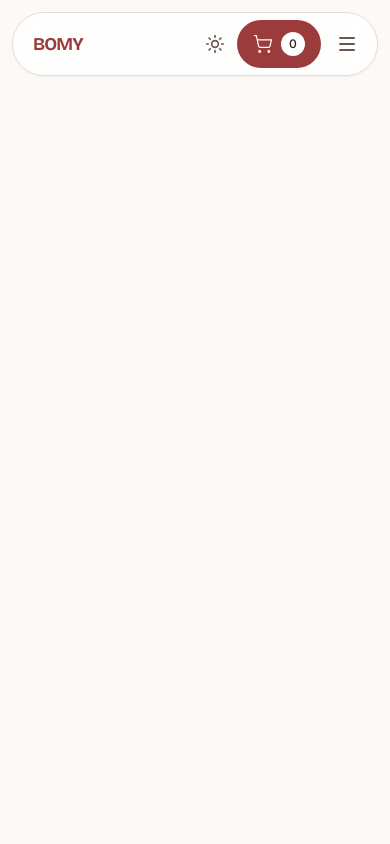
Test case: names, tags and destinations › buyer: the opened mobile panel has the account link
Click the button named "Open menu" at {"x": 347, "y": 44}, box top-left (325, 22), bottom-right (369, 66)
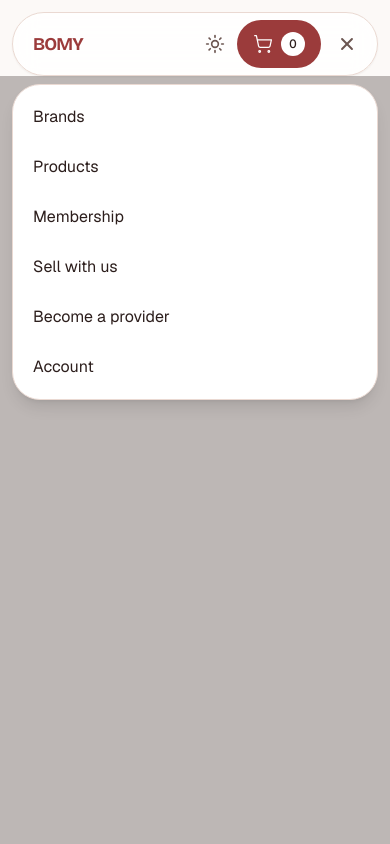
Now the link "Account" is shown, box top-left (33, 356), bottom-right (94, 377)
